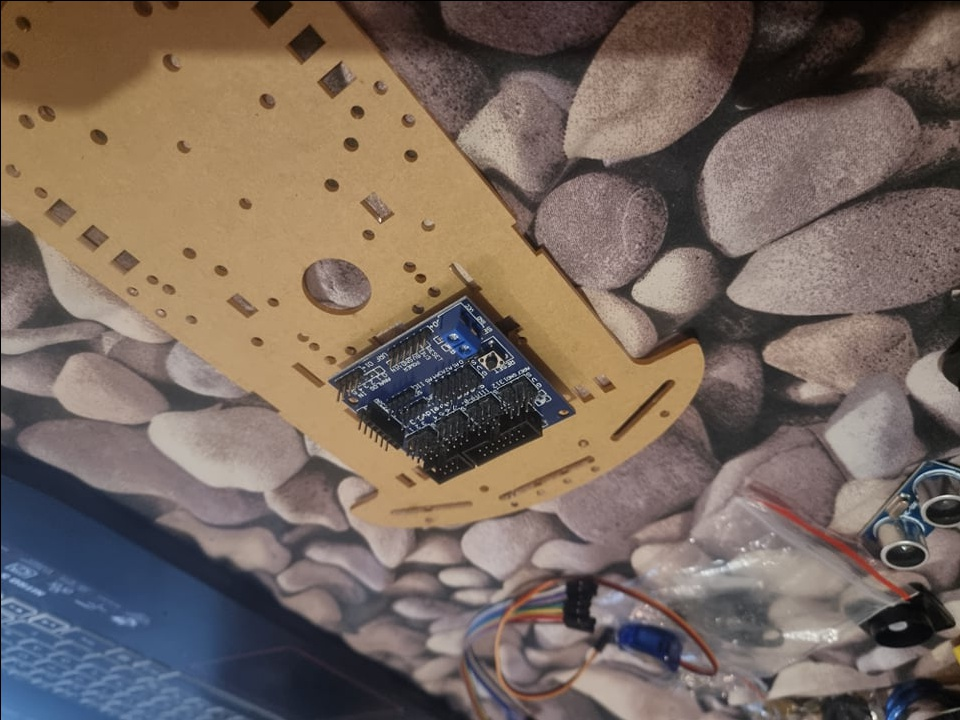5V EXPANSION: (327, 293, 574, 487)
SENSOR: (861, 456, 959, 566)
